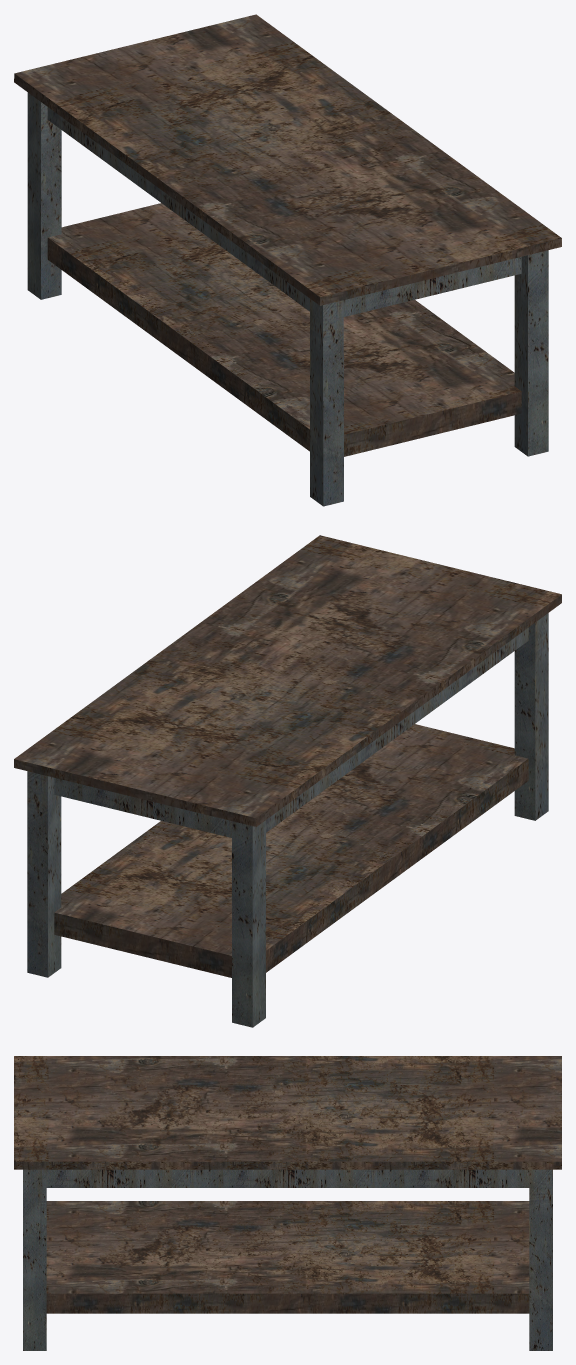
Rendered from table.FBX.
3 views of the same model, one above another, from view 1: azimuth 30°, elevation 25°; view 2: azimuth 150°, elevation 25°; view 3: azimuth 270°, elevation 25° (orthographic). The views are drawn at different scales.
Parts seen in each view (by area): view 1: table; view 2: table; view 3: table.
Part boxes in pixels (box(x1,y1,x2,y2)): table: box(14, 14, 561, 506); table: box(14, 535, 561, 1027); table: box(14, 1056, 561, 1350).
Size of the model in its own units: 0.54 by 0.4581 by 1.18.
